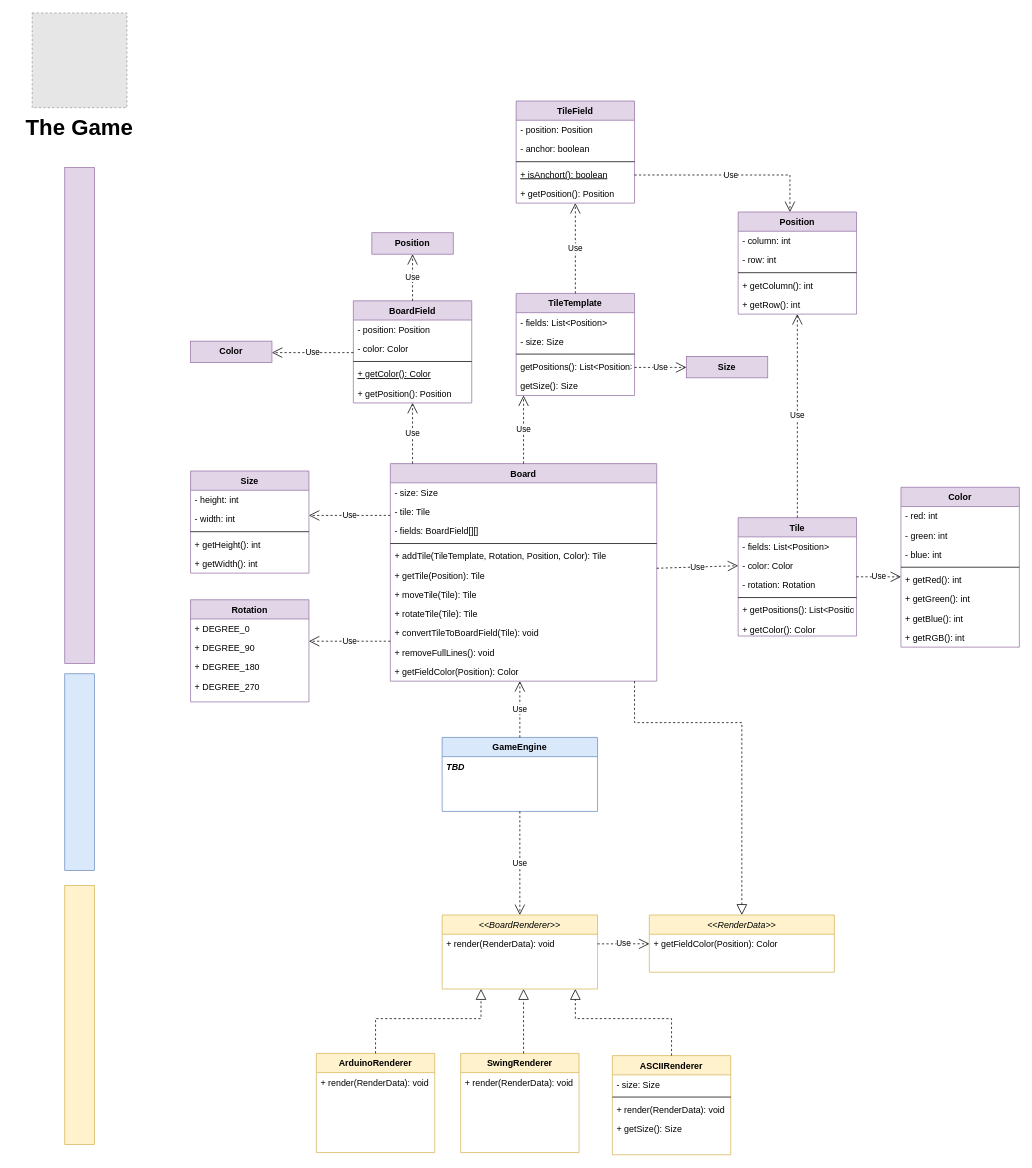
The diagram is 1032 pixels wide and 1168 high, and some of its shapes have lost their labels. Grey dashed boxes stand in for pictures. The shapes that lost their labels are listed below. From the top down, each one's centre as x and y in pixels, then its label:
At pixel 79 415: "Model".
At pixel 79 772: "Controller".
At pixel 79 1014: "View".
